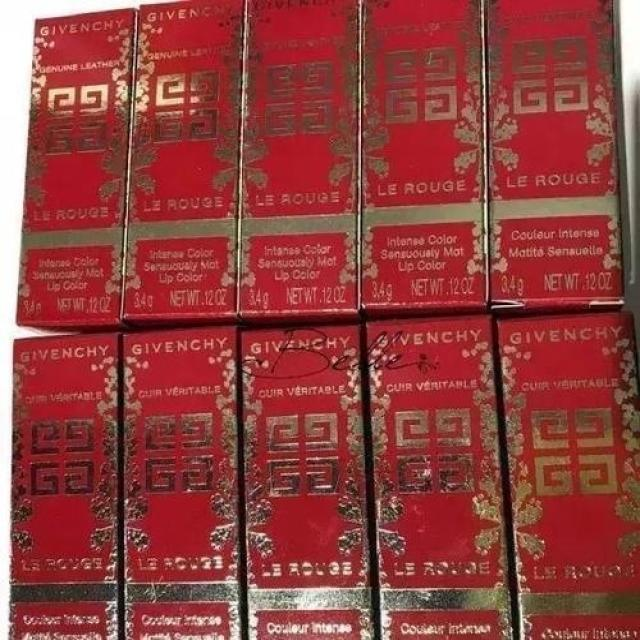box: (362, 311, 518, 639), (498, 310, 638, 638), (482, 2, 626, 312), (238, 322, 376, 638), (17, 7, 141, 339), (120, 0, 244, 329), (120, 321, 246, 639), (236, 2, 361, 321), (360, 1, 486, 317), (10, 328, 122, 638)
